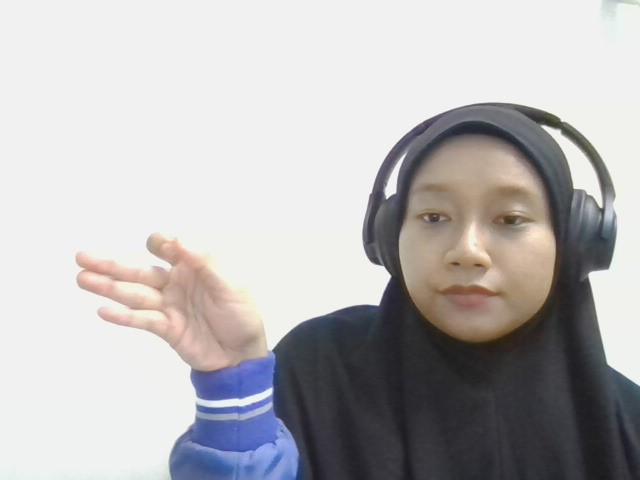Tudung: (76, 232, 268, 372)
